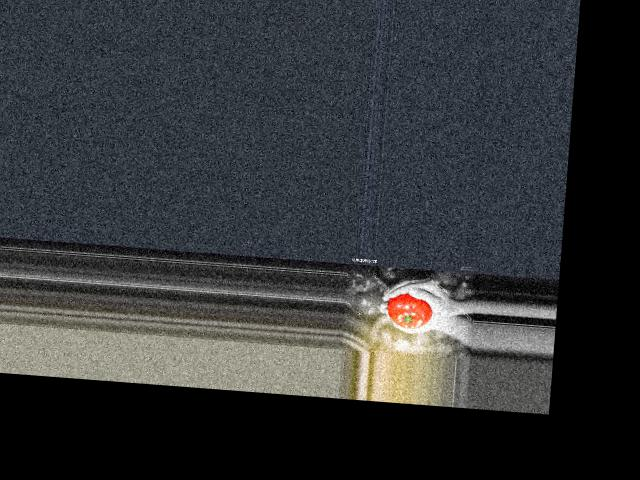tomato: (386, 291, 434, 329)
